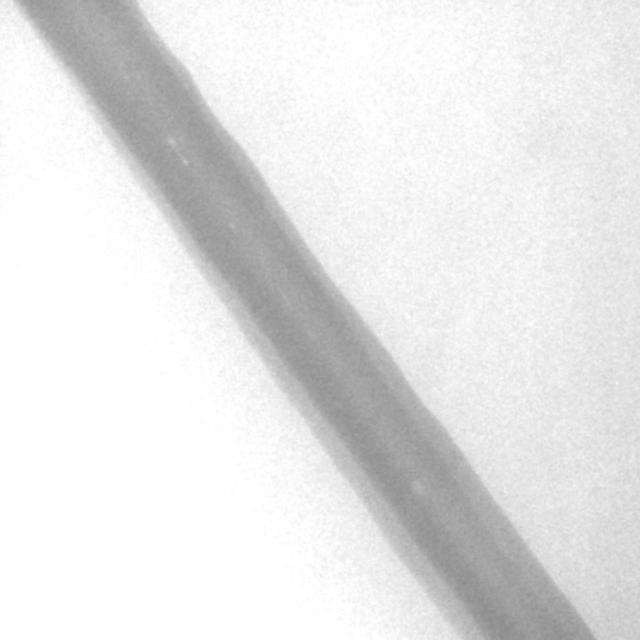air hole: (180, 155, 189, 169), (166, 133, 175, 147), (226, 218, 234, 231)
